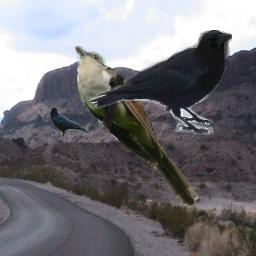Crow: (89, 30, 232, 135), (50, 106, 89, 138)
Cuckoo: (75, 46, 198, 206)
